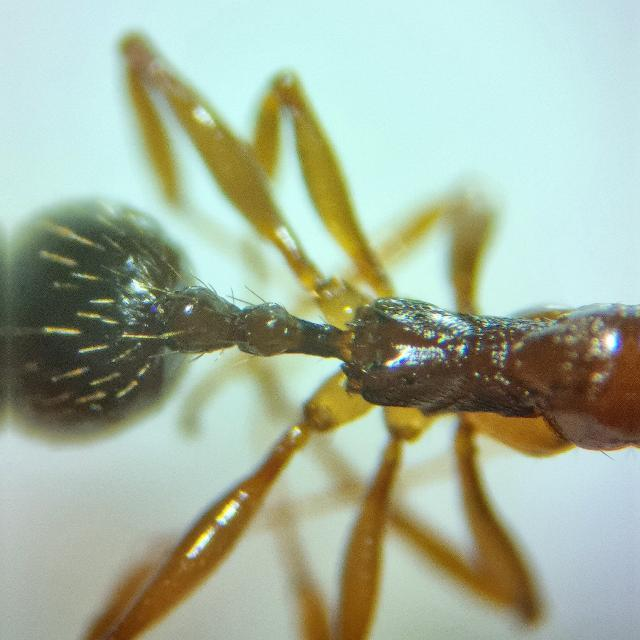Apheanogaster: (8, 74, 622, 628)
